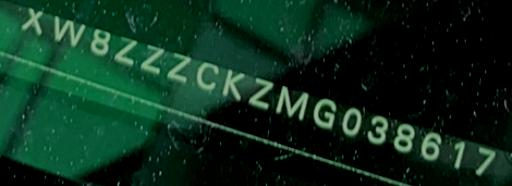letter: (274, 83, 310, 123), (52, 14, 86, 47), (246, 76, 276, 110), (140, 42, 166, 79), (164, 50, 192, 84), (312, 95, 338, 130), (112, 32, 138, 67), (220, 66, 246, 100), (20, 5, 46, 36), (366, 112, 390, 145), (196, 59, 220, 92), (392, 121, 416, 152), (341, 104, 363, 137), (420, 129, 442, 162), (474, 143, 496, 176), (88, 27, 112, 56), (450, 137, 468, 168)
